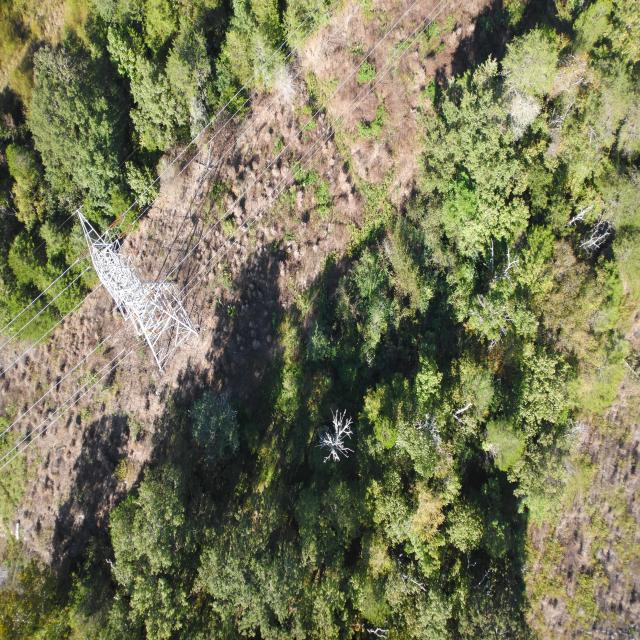Area of Interest: (23, 6, 632, 634), (4, 7, 314, 292)
